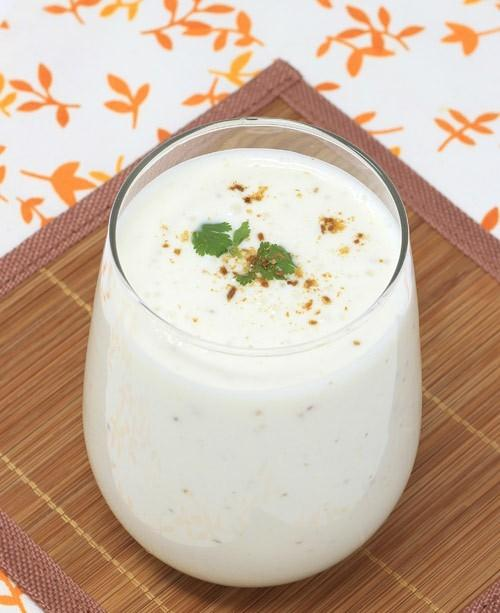Lassi: (84, 147, 423, 588)
